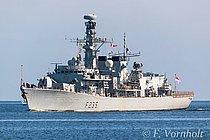MIL_Ship: (20, 13, 193, 112)
